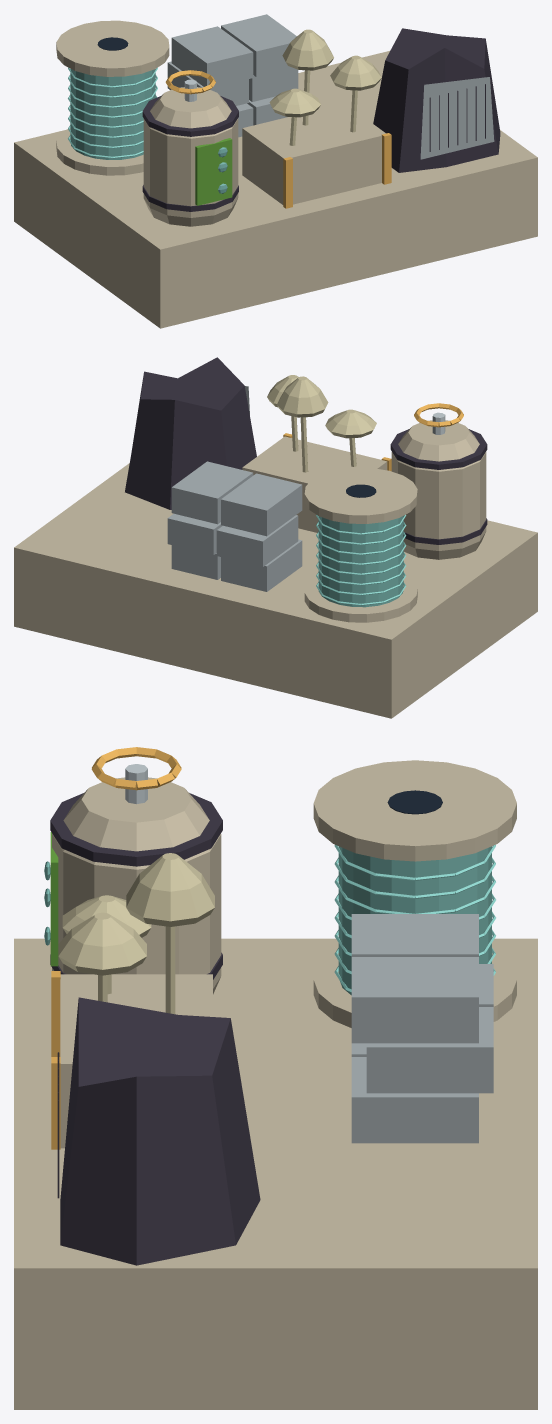
Rendered from space_scene_cargo_audit.glb.
3 views of the same model, one above another, from view 1: azimuth 30°, elevation 25°; view 2: azimuth 150°, elevation 25°; view 3: azimuth 270°, elevation 25° (orthographic). The views are drawn at different scales.
Visible parts, largest first — view 1: FixedDetails, BrassTrim; view 2: FixedDetails, BrassTrim; view 3: FixedDetails, BrassTrim.
Boxes of the visible parts, box(x1,y1,x2,y2) form: FixedDetails: box(14, 14, 537, 328); BrassTrim: box(68, 67, 391, 208); FixedDetails: box(14, 357, 537, 718); BrassTrim: box(283, 403, 463, 605); FixedDetails: box(14, 760, 537, 1409); BrassTrim: box(51, 747, 495, 1149).
Size of the model in its own units: 0.7 by 0.387 by 0.47.
